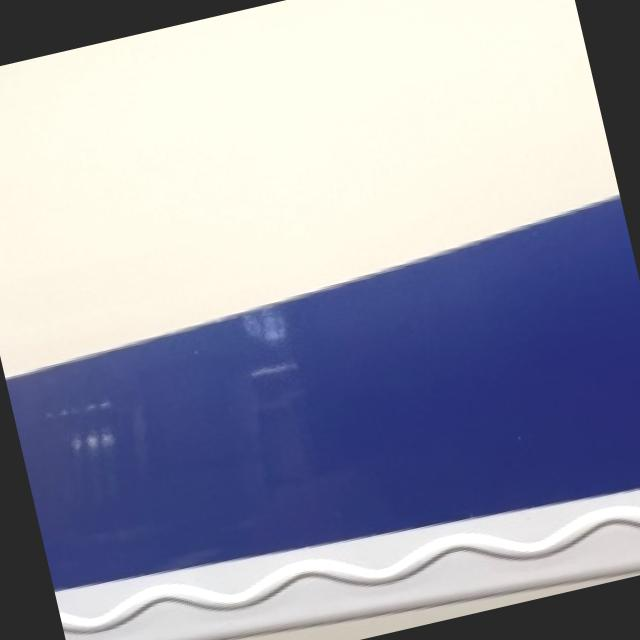healthy: (7, 196, 640, 640)
